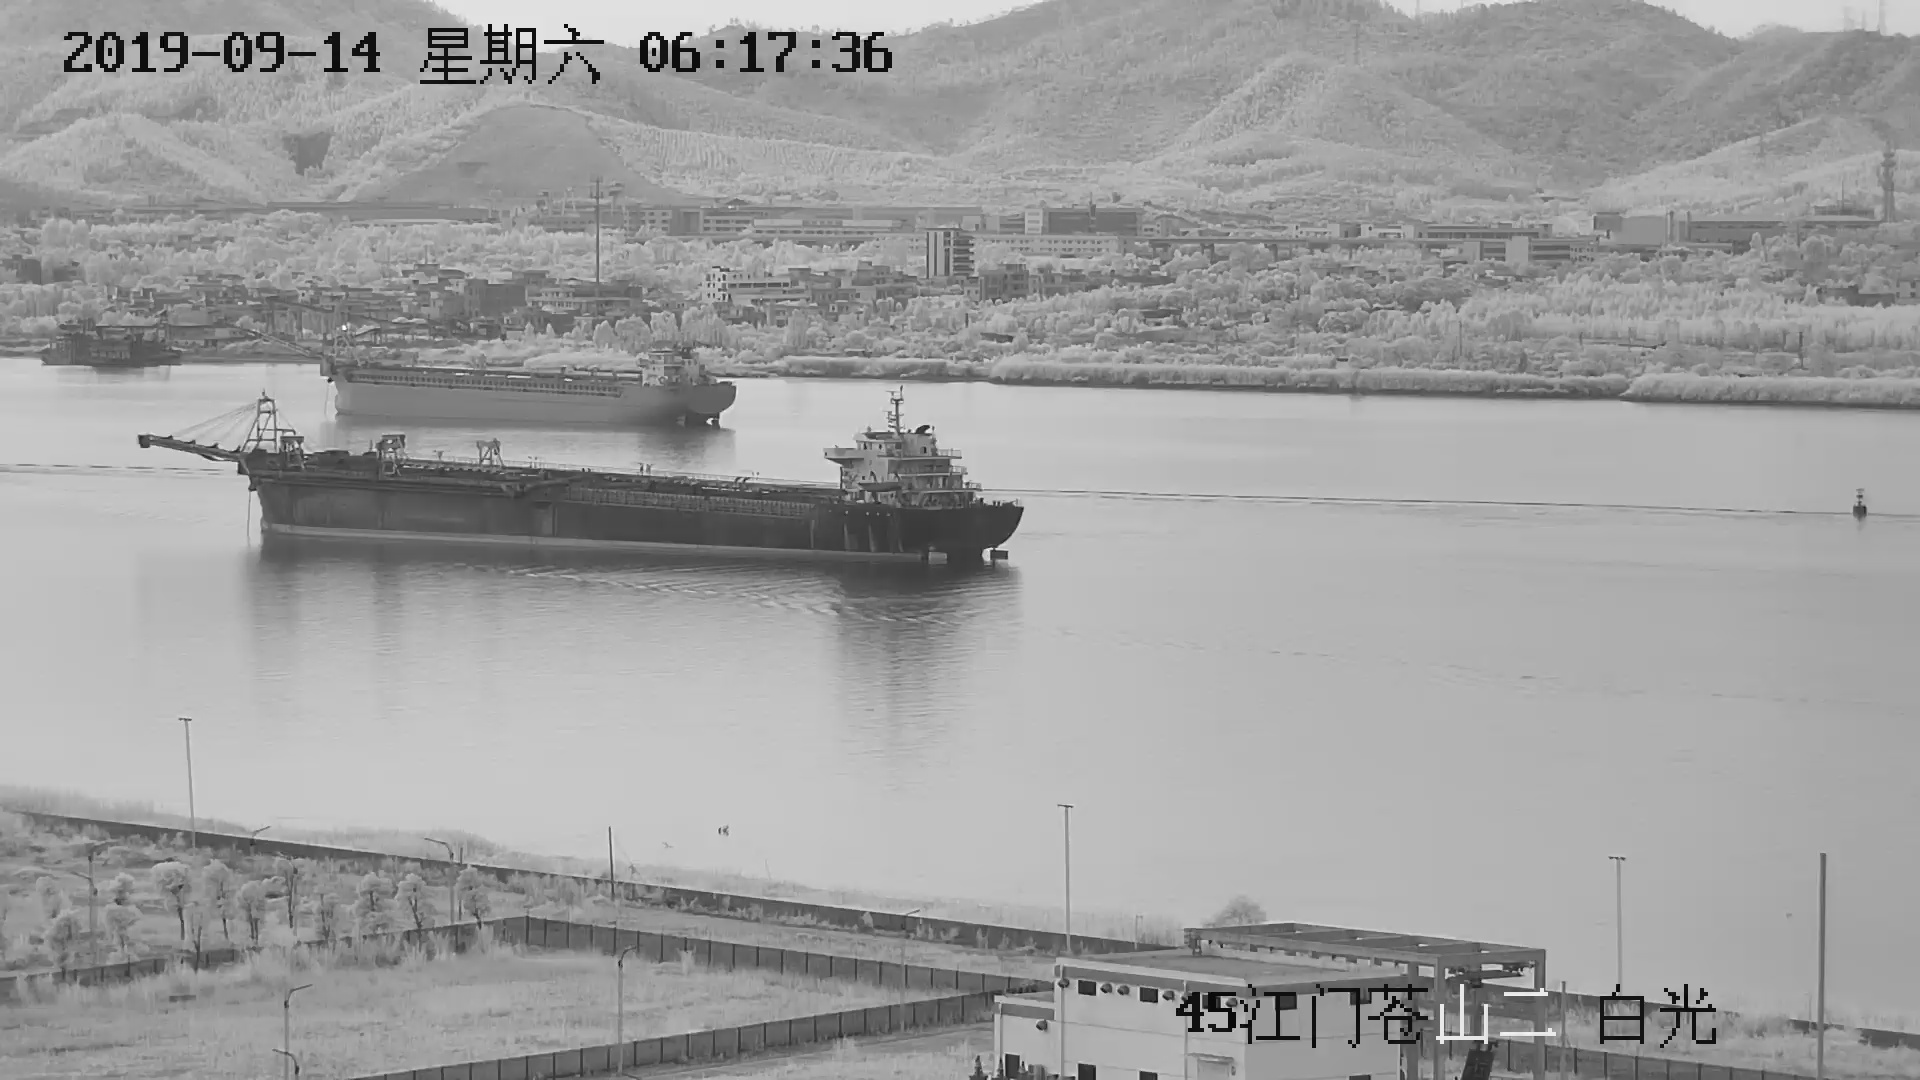ship: (157, 386, 1025, 574), (334, 328, 735, 429)
